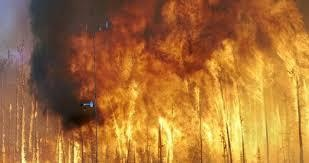fire: (51, 7, 307, 161)
